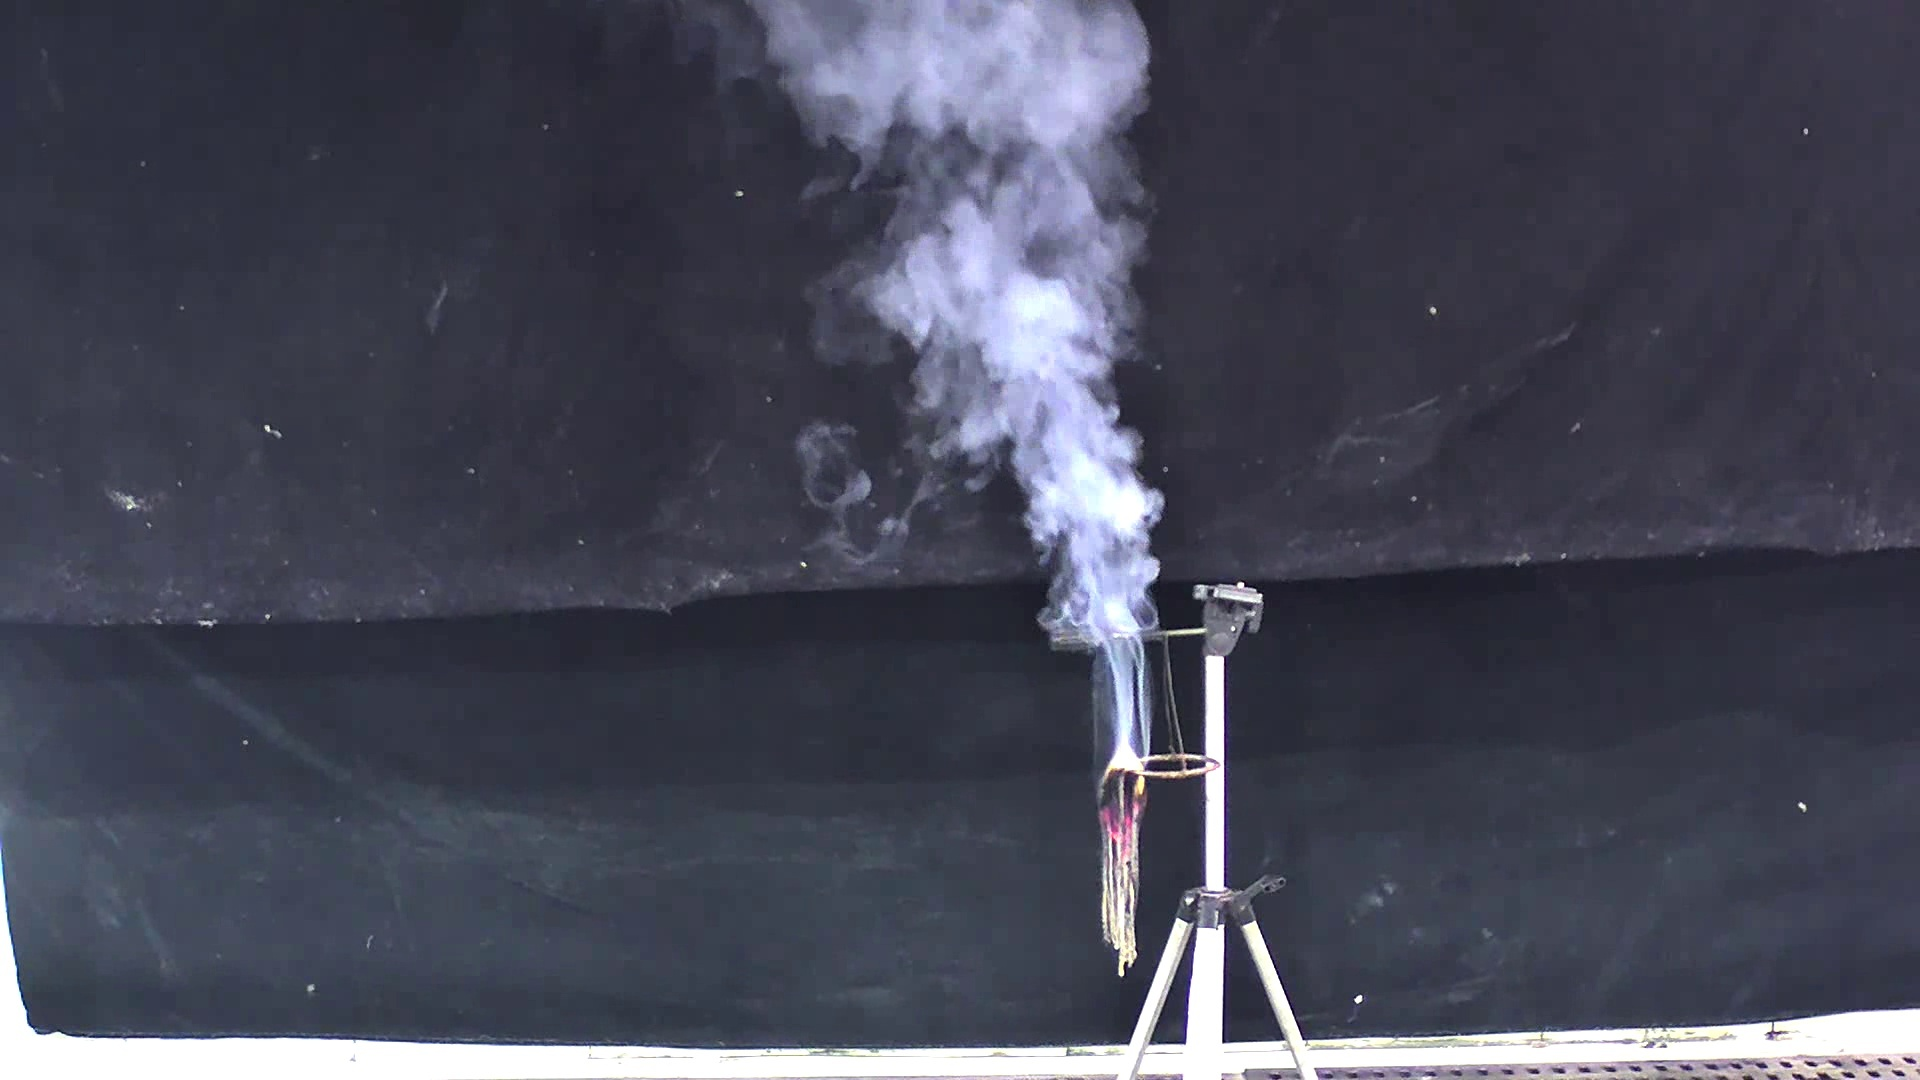smoke: (744, 24, 1168, 757)
